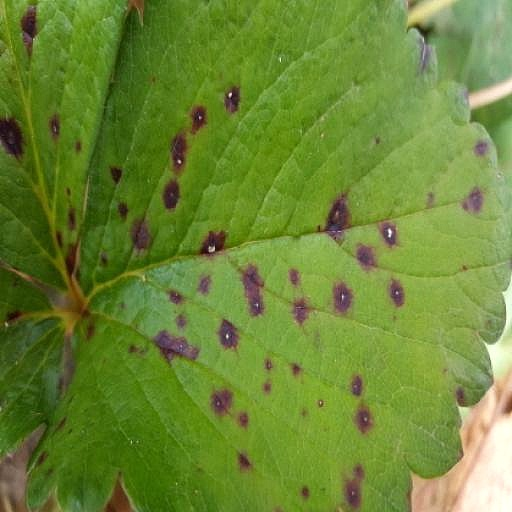Leaf Spot: (0, 0, 489, 511), (382, 0, 511, 287), (444, 261, 511, 458)
